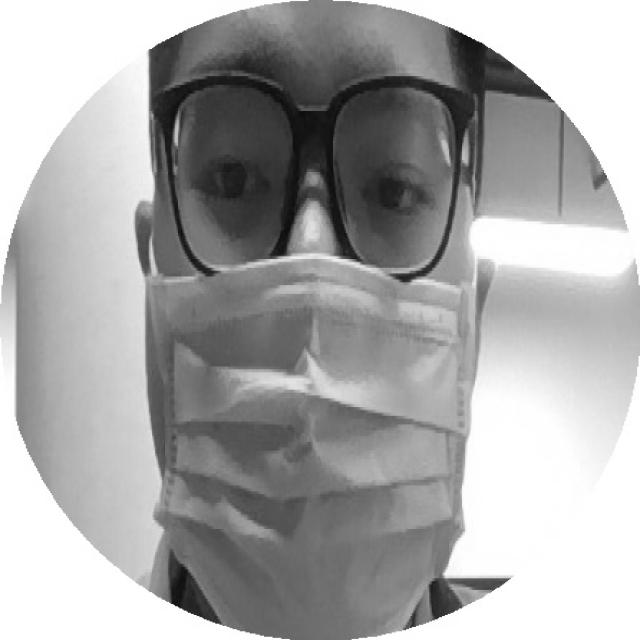fake: (149, 257, 466, 640)
real: (170, 69, 471, 239)
